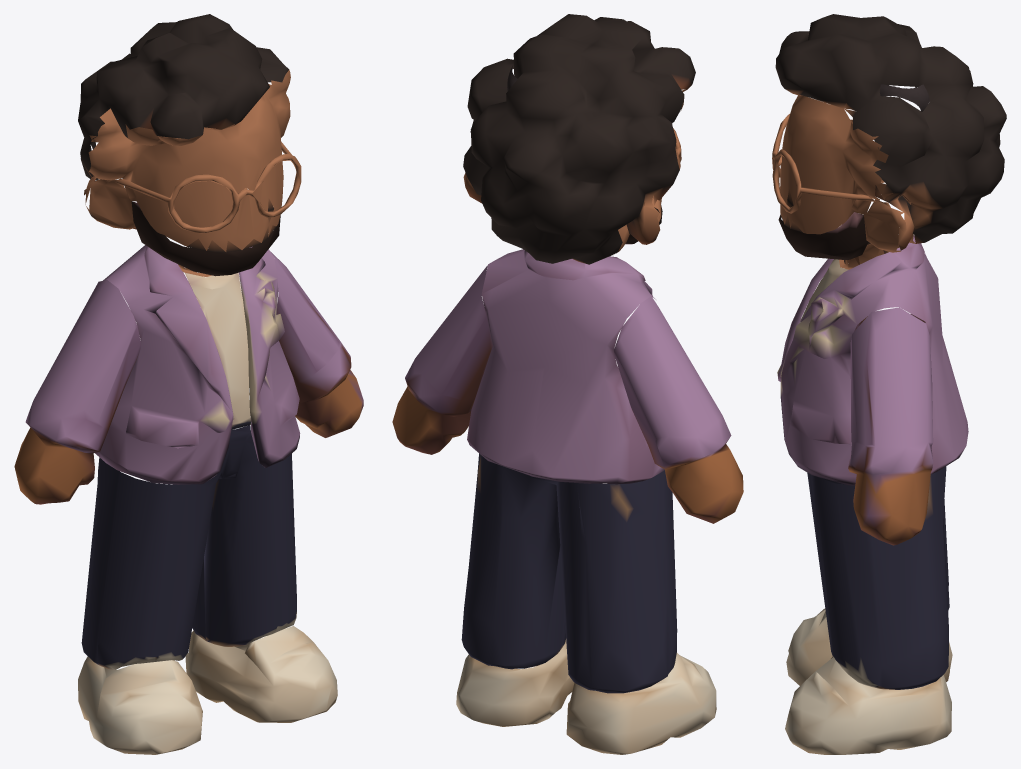
The picture shows the model from 3 angles, left to right: view 1: azimuth 30°, elevation 25°; view 2: azimuth 150°, elevation 25°; view 3: azimuth 270°, elevation 25°; orthographic projection.
Visible parts, largest first — view 1: bottom, top, head, hair, sleeve_r, shoe_l, shoe_r, sleeve_l; view 2: hair, bottom, top, sleeve_r, sleeve_l, shoe_r, shoe_l; view 3: hair, top, bottom, sleeve_l, head, shoe_l, shoe_r, acc_head_0.
Part boxes in pixels (bbox=[...]): bottom: bbox=[81, 425, 296, 670]; top: bbox=[95, 245, 300, 484]; head: bbox=[84, 69, 301, 276]; hair: bbox=[78, 14, 288, 276]; sleeve_r: bbox=[14, 280, 140, 504]; shoe_l: bbox=[185, 626, 337, 722]; shoe_r: bbox=[78, 656, 202, 754]; sleeve_l: bbox=[271, 252, 363, 437]; hair: bbox=[463, 14, 695, 264]; bottom: bbox=[461, 453, 677, 693]; top: bbox=[467, 249, 664, 484]; sleeve_r: bbox=[614, 296, 743, 523]; sleeve_l: bbox=[392, 265, 492, 454]; shoe_r: bbox=[566, 653, 716, 754]; shoe_l: bbox=[456, 639, 574, 726]; hair: bbox=[775, 14, 1006, 265]; top: bbox=[777, 235, 968, 485]; bottom: bbox=[807, 466, 949, 689]; sleeve_l: bbox=[848, 307, 933, 545]; head: bbox=[772, 94, 915, 269]; shoe_l: bbox=[785, 656, 951, 754]; shoe_r: bbox=[786, 608, 952, 685]; acc_head_0: bbox=[879, 84, 930, 111].
Bounding box in the file's own units: 0.5353 × 1.03 × 0.3233.
